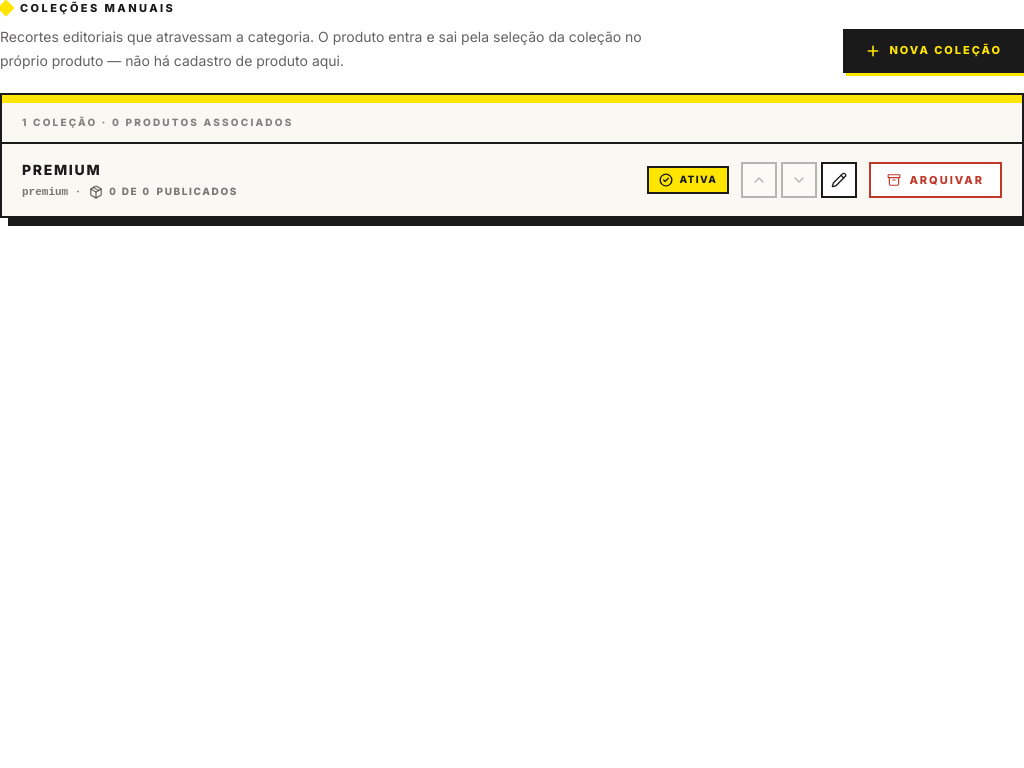
Test: CuratedCollectionsPanel › permite editar o identificador enquanto a coleção está vazia
This screenshot has width=1024, height=768.
Step 1. Click the button named "editar premium" → [839, 180], box [821, 162, 857, 198]
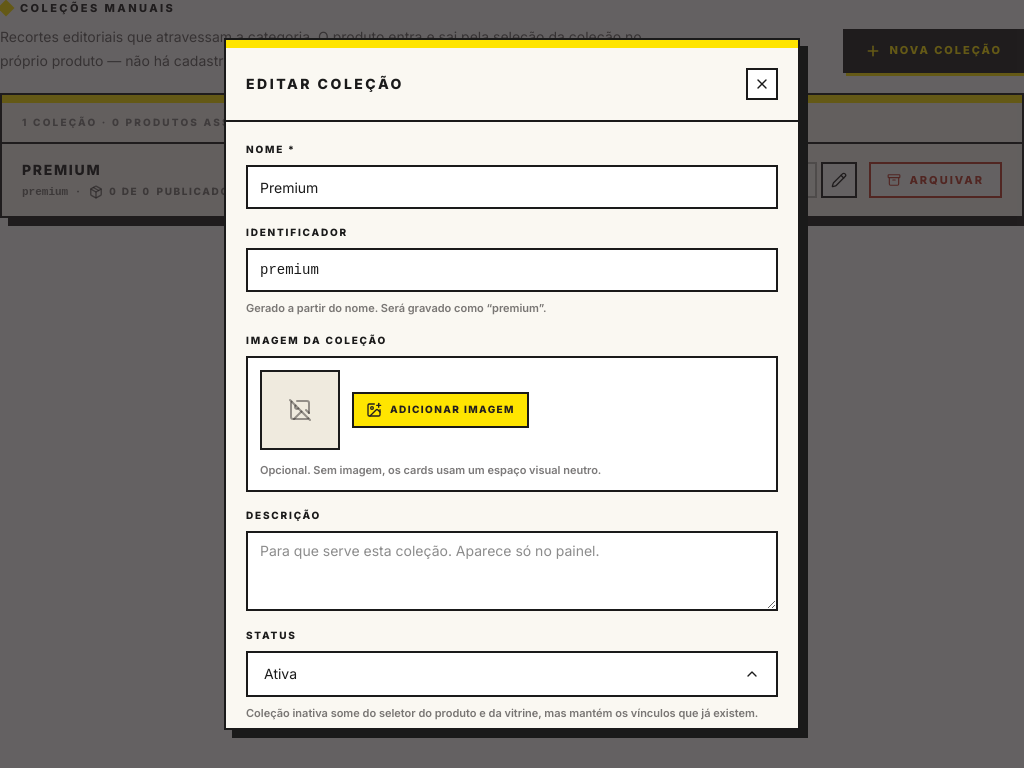
Now the field labelled "Identificador" is enabled, box [246, 248, 778, 292]
